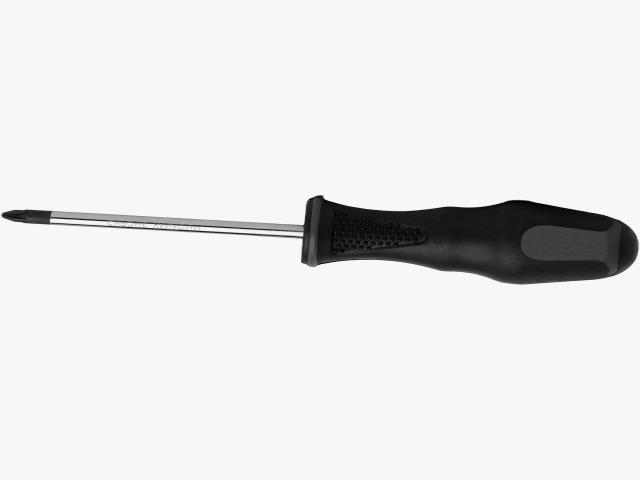Screwdriver: (2, 197, 638, 284)
